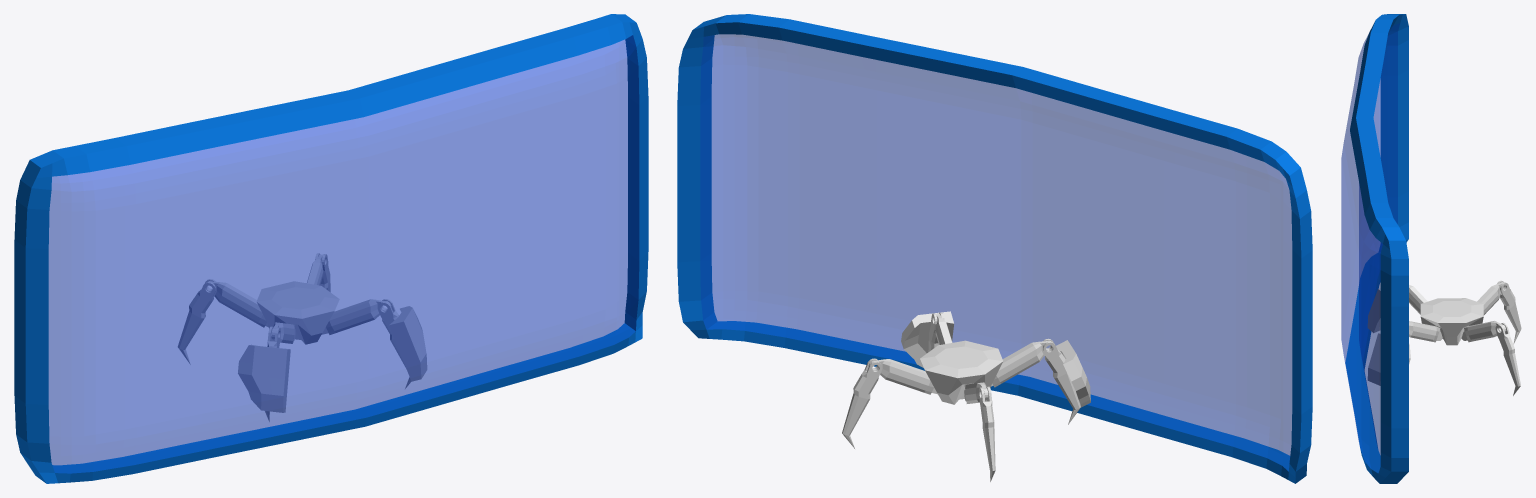
Rendered from DefenderEnemy.fbx.
3 views of the same model, side by side, from view 1: azimuth 30°, elevation 25°; view 2: azimuth 150°, elevation 25°; view 3: azimuth 270°, elevation 25° (orthographic). The views are drawn at different scales.
Parts seen in each view (by area): view 1: Shield, Body, FrontRightUnderLeg, FrontLeftUnderLeg, FrontLeftUpperLeg, BuckRightUpperLeg, BuckRightUnderLeg; view 2: Shield, Body, FrontRightUnderLeg, FrontLeftUnderLeg, BuckLeftUnderLeg, BuckLeftUpperLeg, FrontRightUpperLeg, BuckRightUnderLeg; view 3: Shield, Body, BuckLeftUnderLeg, BuckRightUnderLeg, BuckLeftUpperLeg, FrontLeftUpperLeg, FrontLeftUnderLeg, FrontRightUnderLeg, BuckRightUpperLeg, FrontRightUpperLeg.
Part boxes in pixels (<box>): Shield: <box>14,14,648,483</box>; Body: <box>256,281,339,344</box>; FrontRightUnderLeg: <box>238,326,290,421</box>; FrontLeftUnderLeg: <box>378,299,427,388</box>; FrontLeftUpperLeg: <box>321,299,391,334</box>; BuckRightUpperLeg: <box>206,281,268,327</box>; BuckRightUnderLeg: <box>178,279,215,364</box>; Shield: <box>677,14,1312,483</box>; Body: <box>920,340,1003,404</box>; FrontRightUnderLeg: <box>1043,338,1090,424</box>; FrontLeftUnderLeg: <box>901,311,954,367</box>; BuckLeftUnderLeg: <box>842,358,881,448</box>; BuckLeftUpperLeg: <box>868,359,937,394</box>; FrontRightUpperLeg: <box>991,340,1052,387</box>; BuckRightUnderLeg: <box>979,386,995,481</box>; Shield: <box>1341,14,1408,483</box>; Body: <box>1420,298,1483,345</box>; BuckLeftUnderLeg: <box>1495,323,1520,395</box>; BuckRightUnderLeg: <box>1497,280,1521,344</box>; BuckLeftUpperLeg: <box>1461,321,1506,342</box>; FrontLeftUpperLeg: <box>1409,321,1442,342</box>; FrontLeftUnderLeg: <box>1367,333,1410,385</box>; FrontRightUnderLeg: <box>1367,288,1380,332</box>; BuckRightUpperLeg: <box>1477,282,1505,315</box>; FrontRightUpperLeg: <box>1409,285,1427,314</box>.
Size of the model in its own units: 2091 by 1041 by 671.
